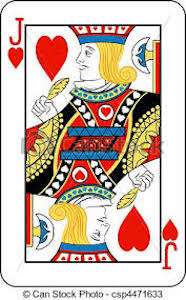JackOfHearts: (1, 1, 185, 288)
